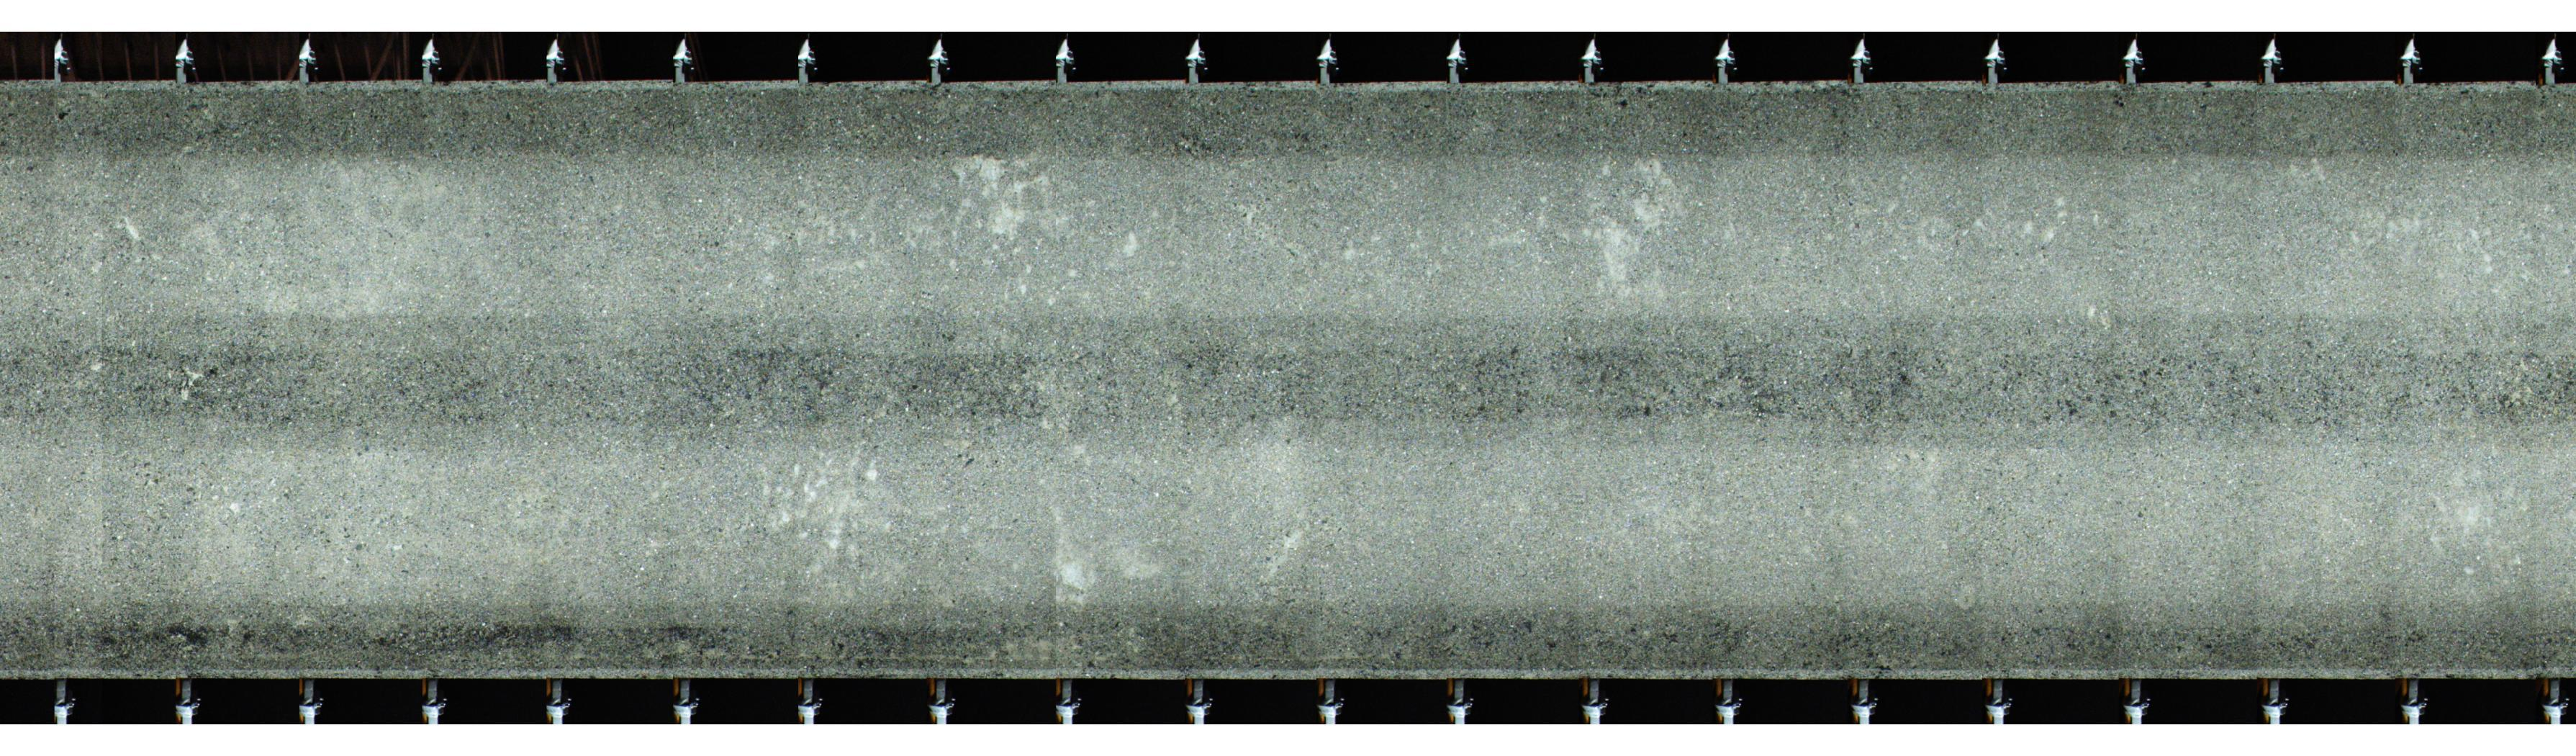concrete: (2, 77, 2576, 674)
